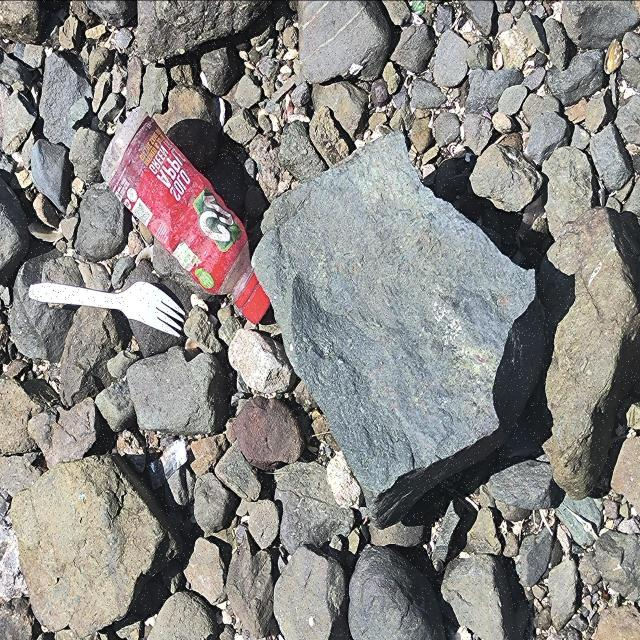plastic_waste: (102, 110, 273, 327)
